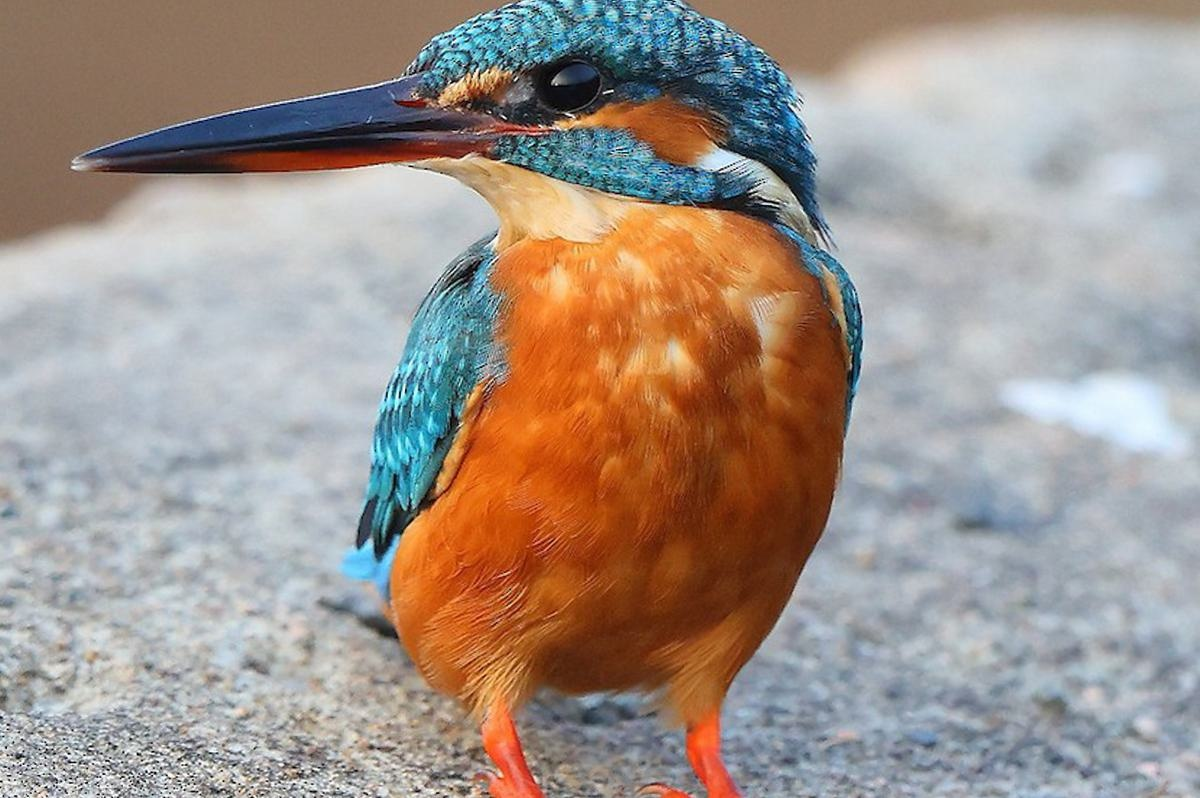kingfisher: (93, 2, 860, 798)
